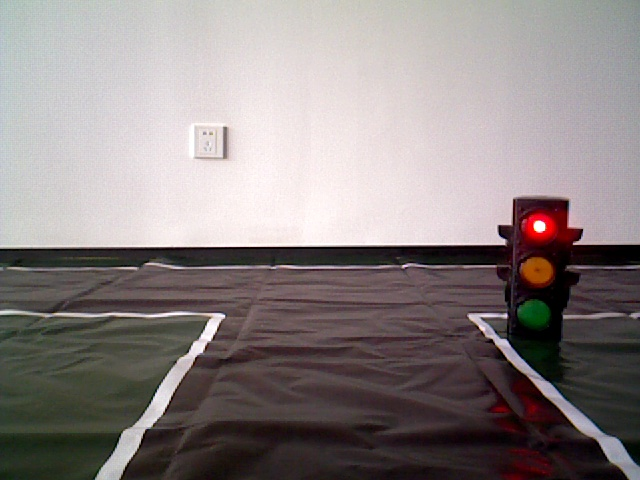red: (510, 200, 561, 339)
